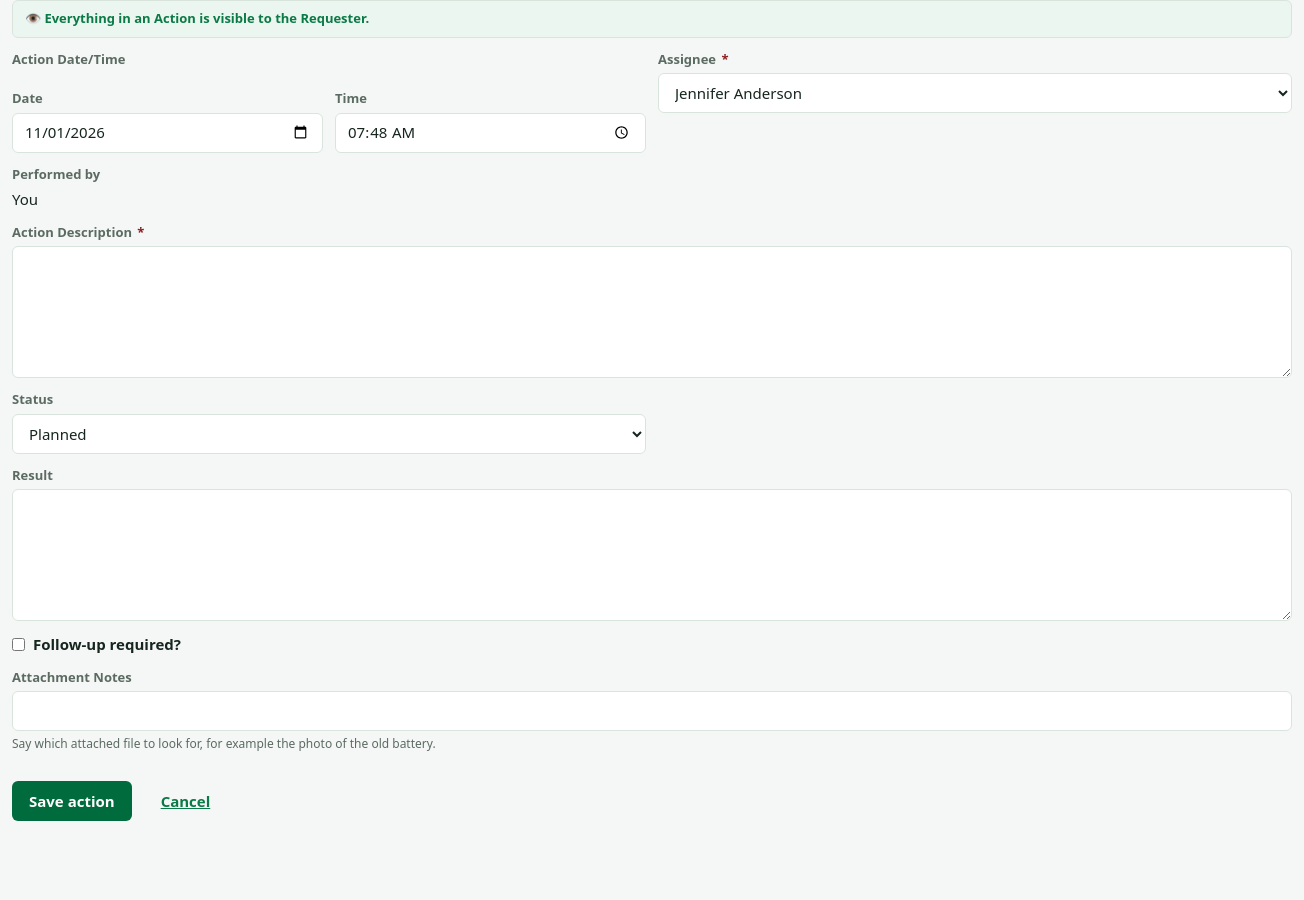
Lab 4 style contract › STY-04: invalid Action fields carry aria-invalid and aria-describedby, and the form is not a dialog
The image size is (1304, 900).
Click the button "Save action" at [72, 801], box [12,781,132,821]
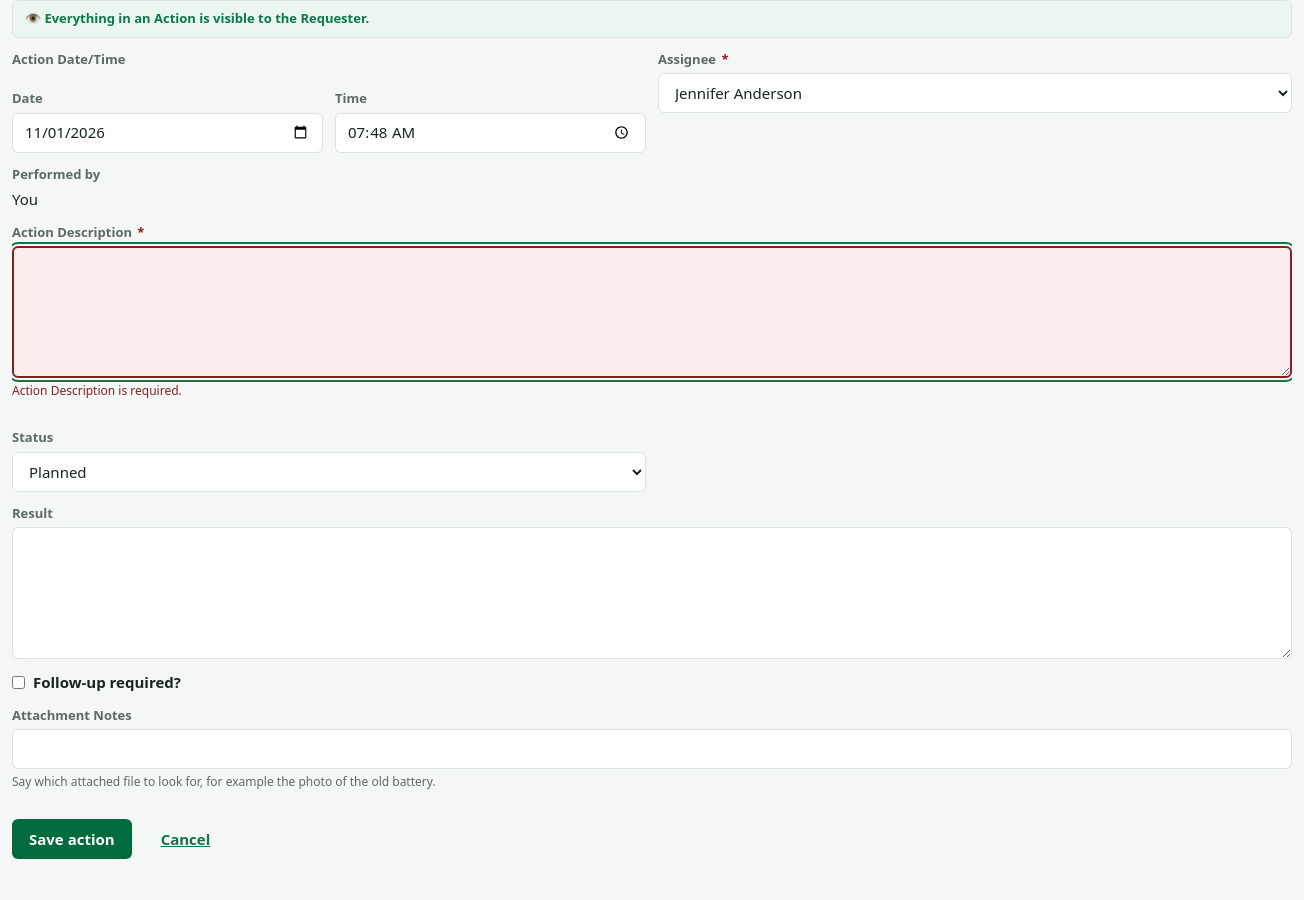
Check: the message "Action Description is required." is shown, box [12,382,182,399]
